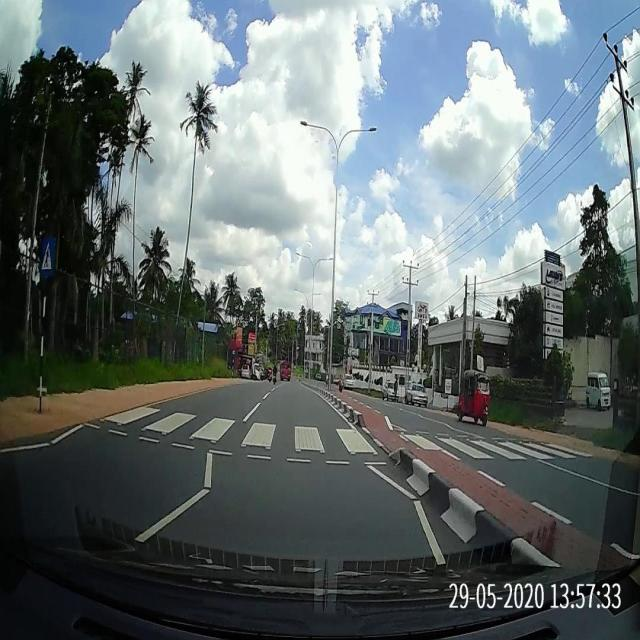Crosswalk: (73, 403, 600, 470)
